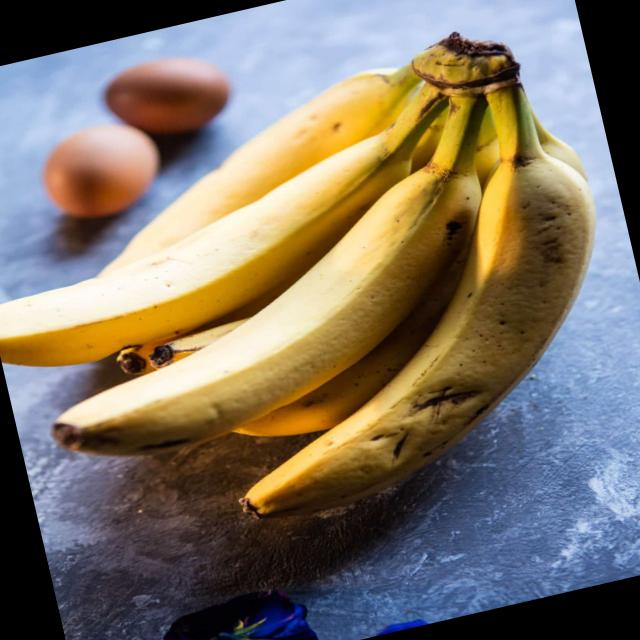banana: (171, 138, 640, 560), (1, 140, 558, 491), (38, 41, 490, 334), (0, 110, 474, 387)
